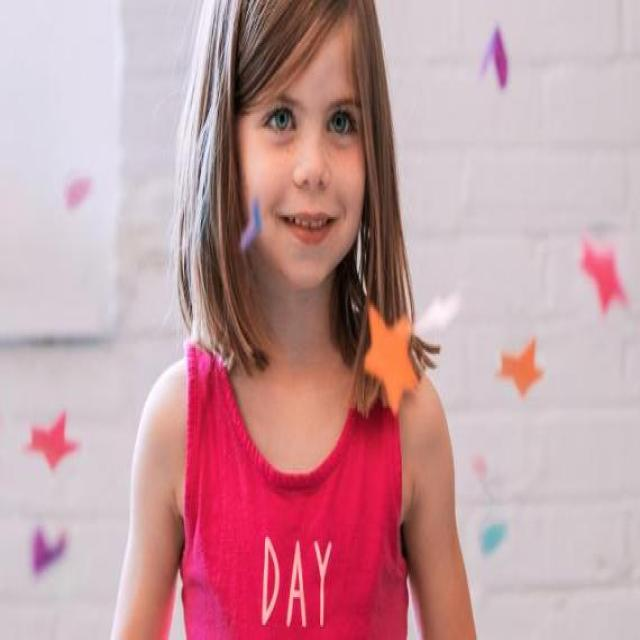child: (114, 0, 479, 640)
